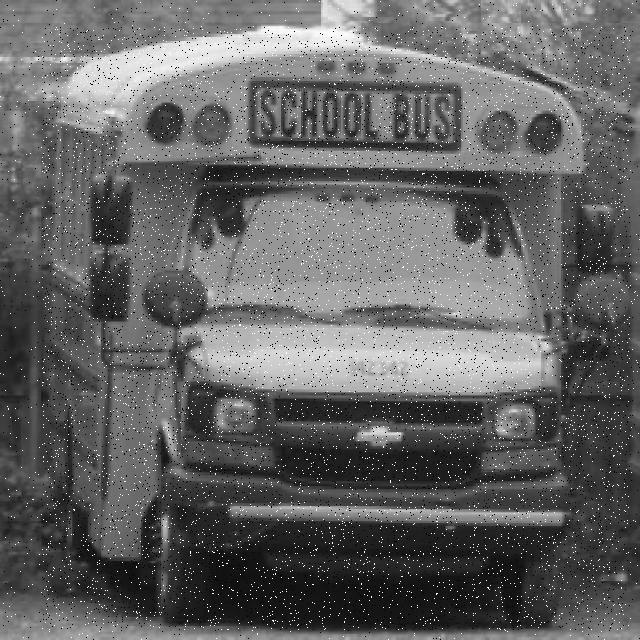Bus- Small: (42, 27, 631, 630)
